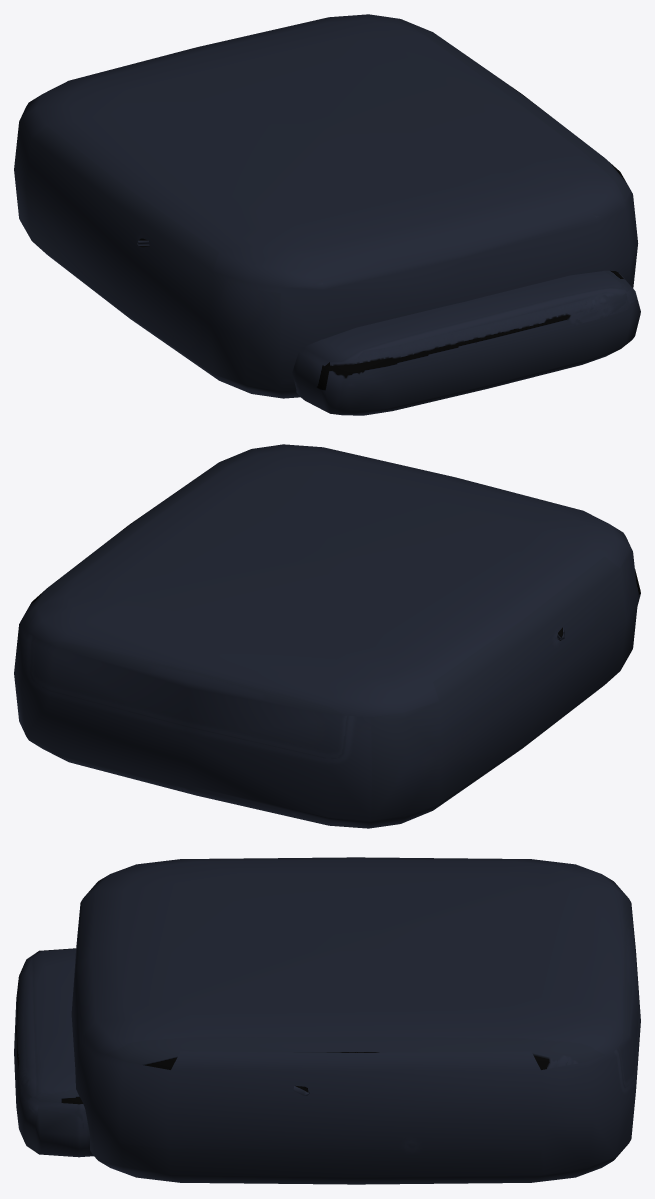
File: Mascarada_ZapatoIzq.fbx
3 renders of one model, top to bottom at view 1: azimuth 30°, elevation 25°; view 2: azimuth 150°, elevation 25°; view 3: azimuth 270°, elevation 25°, orthographic. The views are drawn at different scales.
Parts seen in each view (by area): view 1: Mascarada_ZapatoIzq; view 2: Mascarada_ZapatoIzq; view 3: Mascarada_ZapatoIzq.
Part boxes in pixels (x1,y1,x2,y2): Mascarada_ZapatoIzq: (14,14,640,415); Mascarada_ZapatoIzq: (14,444,640,828); Mascarada_ZapatoIzq: (14,857,640,1184).
Size of the model in its own units: 1.1 by 0.3834 by 1.38.
